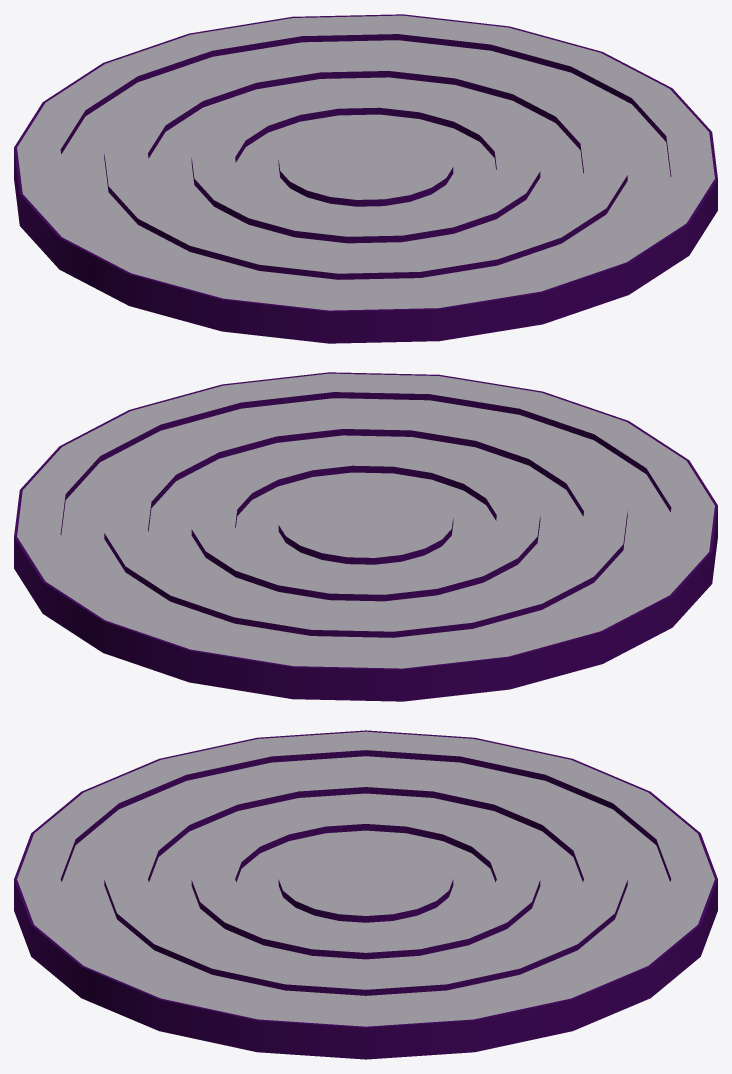
The model's file is Onion01BigSlice2.fbx.
3 views of the same model, one above another, from view 1: azimuth 30°, elevation 25°; view 2: azimuth 150°, elevation 25°; view 3: azimuth 270°, elevation 25° (orthographic).
Parts seen in each view (by area): view 1: polySurface8, polySurface1, polySurface2, polySurface3, polySurface4, polySurface5, polySurface6, polySurface7; view 2: polySurface8, polySurface1, polySurface2, polySurface3, polySurface4, polySurface5, polySurface6, polySurface7; view 3: polySurface8, polySurface1, polySurface2, polySurface3, polySurface4, polySurface5, polySurface6, polySurface7.
Boxes of the visible parts, left/top/right/bottom form: polySurface8: left=17, top=15, right=714, bottom=310; polySurface1: left=14, top=14, right=717, bottom=343; polySurface2: left=60, top=34, right=671, bottom=177; polySurface3: left=104, top=153, right=627, bottom=279; polySurface4: left=148, top=71, right=583, bottom=173; polySurface5: left=191, top=158, right=540, bottom=243; polySurface6: left=235, top=107, right=496, bottom=169; polySurface7: left=278, top=160, right=453, bottom=206; polySurface8: left=17, top=373, right=714, bottom=668; polySurface1: left=14, top=372, right=717, bottom=701; polySurface2: left=60, top=392, right=671, bottom=535; polySurface3: left=104, top=511, right=627, bottom=637; polySurface4: left=148, top=429, right=583, bottom=531; polySurface5: left=191, top=516, right=540, bottom=601; polySurface6: left=235, top=465, right=496, bottom=527; polySurface7: left=278, top=518, right=453, bottom=564; polySurface8: left=17, top=731, right=714, bottom=1026; polySurface1: left=14, top=730, right=717, bottom=1059; polySurface2: left=60, top=750, right=671, bottom=881; polySurface3: left=104, top=880, right=627, bottom=995; polySurface4: left=148, top=787, right=583, bottom=881; polySurface5: left=191, top=880, right=540, bottom=959; polySurface6: left=235, top=824, right=496, bottom=881; polySurface7: left=278, top=879, right=453, bottom=922.
Bounding box in the file's own units: 10.09 × 0.5 × 10.09.
